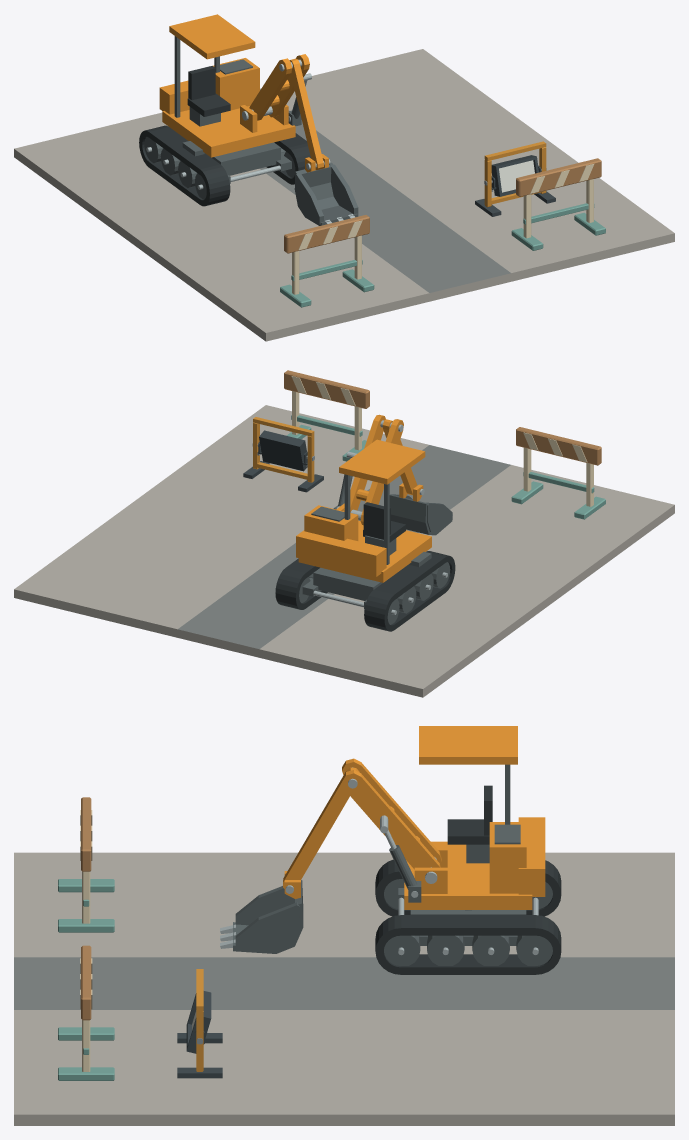
3 views of the same model, one above another, from view 1: azimuth 30°, elevation 25°; view 2: azimuth 150°, elevation 25°; view 3: azimuth 270°, elevation 25° (orthographic). The views are drawn at different scales.
Parts seen in each view (by area): view 1: SCENE_ONLY__ConstructionEntryGround, barrier_right__transport-road-barrier-01, barrier_left__transport-road-barrier-01, excavator__UpperDeck, excavator__TrackBelt_Left, excavator__CanopyRoof, excavator__EngineCover, excavator__Bucket_CurvedShell, excavator__Chassis_CrossFrame, excavator__Stick_Center, excavator__BoomCheek_Left, excavator__TrackBelt_Right (+9 smaller); view 2: SCENE_ONLY__ConstructionEntryGround, barrier_left__transport-road-barrier-01, barrier_right__transport-road-barrier-01, excavator__TrackBelt_Left, excavator__Counterweight_Rear, excavator__CanopyRoof, excavator__UpperDeck, light__Shallow_SteppedHousing, excavator__TrackBelt_Right, excavator__Chassis_CrossFrame, excavator__EngineCover, excavator__Bucket_CurvedShell (+4 smaller); view 3: SCENE_ONLY__ConstructionEntryGround, excavator__TrackBelt_Right, excavator__UpperDeck, excavator__CanopyRoof, barrier_left__transport-road-barrier-01, barrier_right__transport-road-barrier-01, excavator__BoomCheek_Right, excavator__BucketSide_Right, excavator__EngineCover, excavator__Counterweight_Rear, excavator__Stick_Center, excavator__TrackBelt_Left (+10 smaller).
Part boxes in pixels (left/top/right/bottom): SCENE_ONLY__ConstructionEntryGround: left=14, top=49, right=674, bottom=341; barrier_right__transport-road-barrier-01: left=511, top=158, right=605, bottom=250; barrier_left__transport-road-barrier-01: left=280, top=215, right=374, bottom=307; excavator__UpperDeck: left=162, top=106, right=295, bottom=157; excavator__TrackBelt_Left: left=139, top=125, right=230, bottom=206; excavator__CanopyRoof: left=169, top=14, right=255, bottom=59; excavator__EngineCover: left=213, top=58, right=259, bottom=110; excavator__Bucket_CurvedShell: left=294, top=162, right=358, bottom=225; excavator__Chassis_CrossFrame: left=212, top=142, right=280, bottom=175; excavator__Stick_Center: left=289, top=58, right=323, bottom=170; excavator__BoomCheek_Left: left=249, top=58, right=292, bottom=120; excavator__TrackBelt_Right: left=266, top=133, right=310, bottom=184; SCENE_ONLY__ConstructionEntryGround: left=14, top=405, right=674, bottom=697; barrier_left__transport-road-barrier-01: left=511, top=427, right=605, bottom=519; barrier_right__transport-road-barrier-01: left=284, top=370, right=369, bottom=461; excavator__TrackBelt_Left: left=364, top=551, right=455, bottom=631; excavator__Counterweight_Rear: left=296, top=530, right=386, bottom=576; excavator__CanopyRoof: left=339, top=439, right=425, bottom=484; excavator__UpperDeck: left=298, top=520, right=431, bottom=582; light__Shallow_SteppedHousing: left=259, top=430, right=306, bottom=471; excavator__TrackBelt_Right: left=275, top=558, right=327, bottom=609; excavator__Chassis_CrossFrame: left=313, top=567, right=382, bottom=600; excavator__EngineCover: left=304, top=505, right=358, bottom=540; excavator__Bucket_CurvedShell: left=389, top=495, right=452, bottom=535; SCENE_ONLY__ConstructionEntryGround: left=14, top=852, right=674, bottom=1125; excavator__TrackBelt_Right: left=375, top=915, right=561, bottom=974; excavator__UpperDeck: left=404, top=841, right=532, bottom=909; excavator__CanopyRoof: left=419, top=726, right=517, bottom=764; barrier_left__transport-road-barrier-01: left=58, top=797, right=114, bottom=932; barrier_right__transport-road-barrier-01: left=58, top=945, right=114, bottom=1080; excavator__BoomCheek_Right: left=342, top=770, right=440, bottom=869; excavator__BucketSide_Right: left=235, top=902, right=299, bottom=951; excavator__EngineCover: left=489, top=822, right=526, bottom=893; excavator__Counterweight_Rear: left=518, top=817, right=545, bottom=896; excavator__Stick_Center: left=283, top=767, right=359, bottom=888; excavator__TrackBelt_Left: left=375, top=859, right=561, bottom=916.
Size of the model in its own units: 6 by 2.13 by 6.4.
